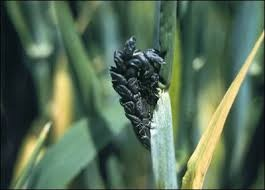Wheat Loose Smut: (106, 32, 171, 146)
